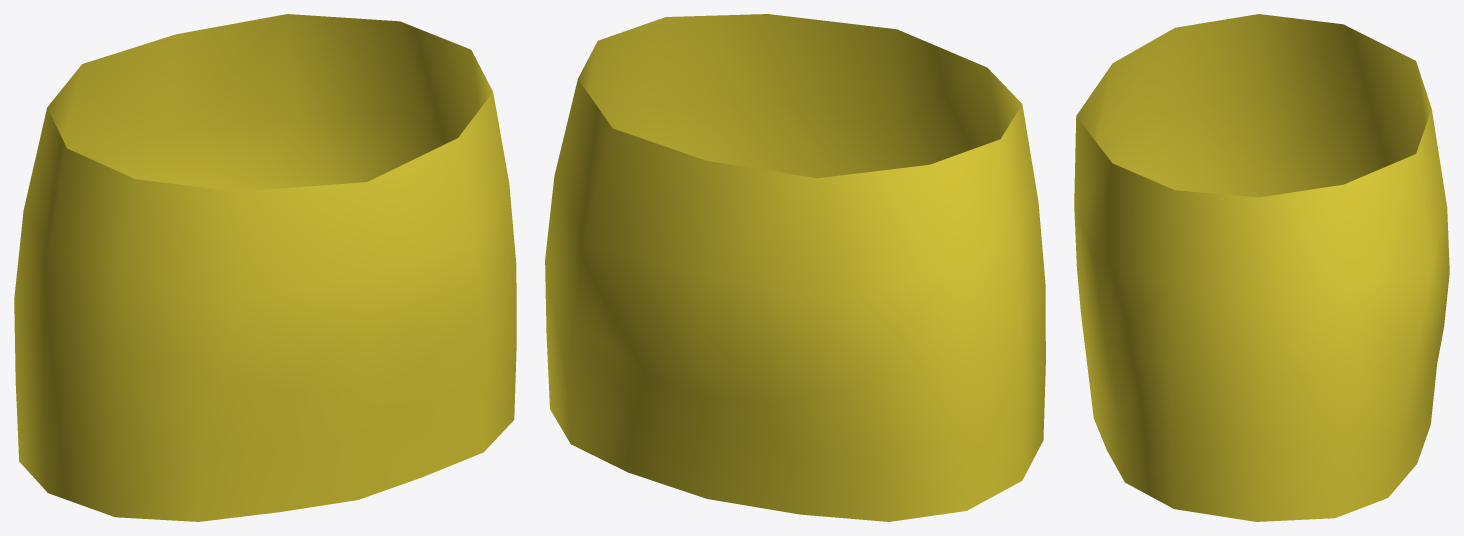
The model's file is Pants_Yellow_006.glb.
3 renders of one model, left to right at view 1: azimuth 30°, elevation 25°; view 2: azimuth 150°, elevation 25°; view 3: azimuth 270°, elevation 25°, orthographic. The views are drawn at different scales.
Visible parts, largest first — view 1: Pants_Yellow_006; view 2: Pants_Yellow_006; view 3: Pants_Yellow_006.
Boxes of the visible parts, <box> form: Pants_Yellow_006: <box>14,14,516,521</box>; Pants_Yellow_006: <box>545,14,1045,521</box>; Pants_Yellow_006: <box>1074,14,1449,521</box>.
Bounding box in the file's own units: 0.4681 × 0.3437 × 0.3645.
Materials: 1 (1 with a texture image).
